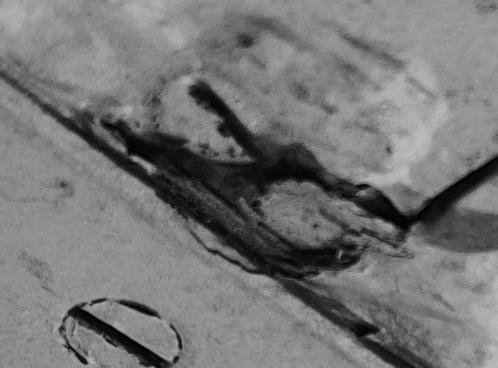paint-off: (1, 0, 498, 368)
